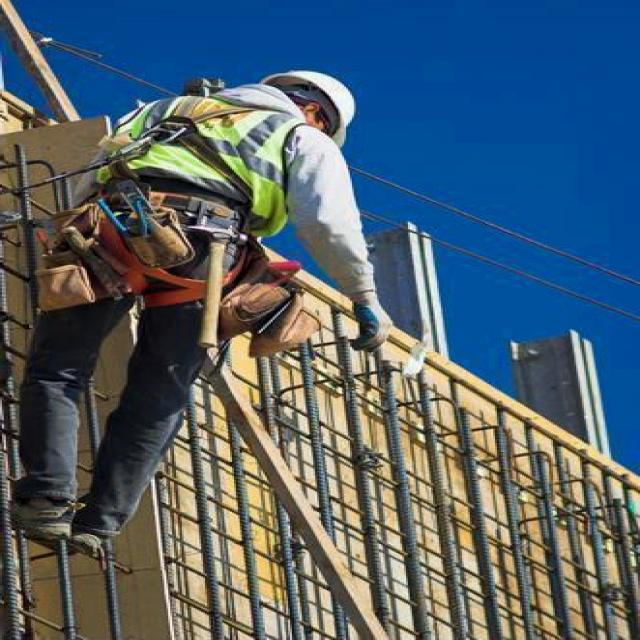hand_glove: (342, 294, 400, 361)
head_helmet: (259, 69, 360, 140)
person: (10, 71, 375, 549)
shoes: (0, 478, 95, 537)
vest: (116, 114, 298, 214)
